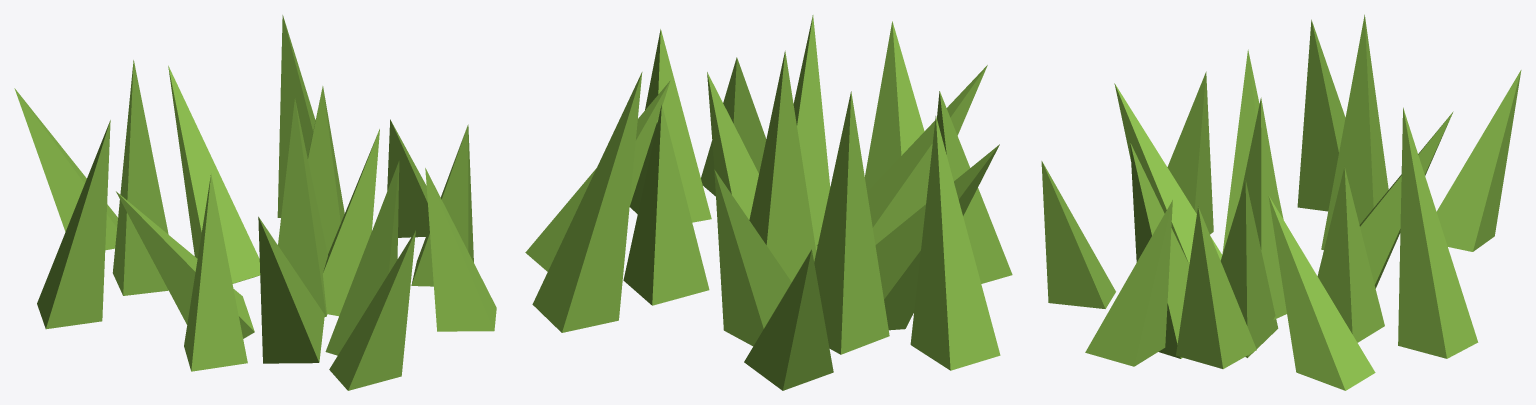
Rendered from Grass_Patch.glb.
3 renders of one model, left to right at view 1: azimuth 30°, elevation 25°; view 2: azimuth 150°, elevation 25°; view 3: azimuth 270°, elevation 25°, orthographic. The views are drawn at different scales.
Parts seen in each view (by area): view 1: Node; view 2: Node; view 3: Node.
Part boxes in pixels (box(x1,y1,x2,y2)): Node: box(14, 15, 496, 390); Node: box(525, 15, 1012, 390); Node: box(1041, 14, 1521, 390).
Size of the model in its own units: 0.153 by 0.0931 by 0.1526.
